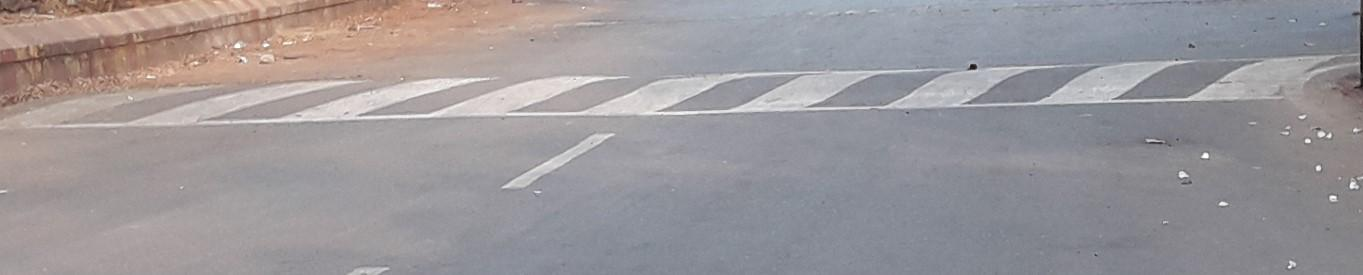speed-bump: (6, 47, 1357, 129)
